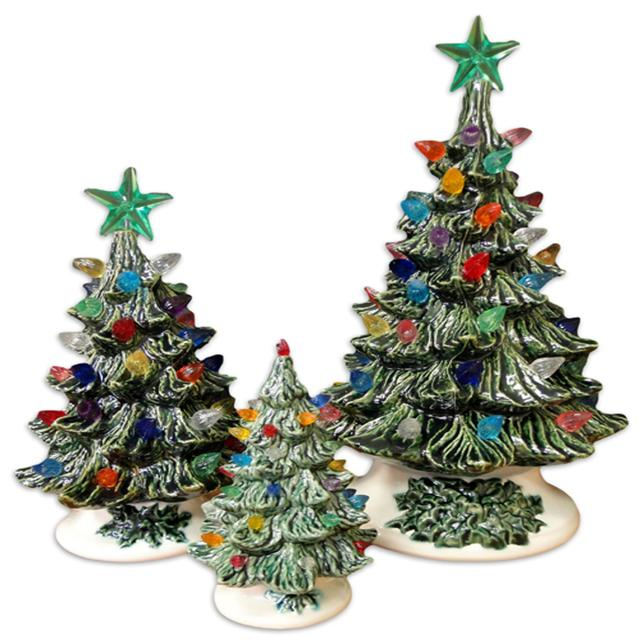Christmas-tree: (216, 337, 356, 615)
